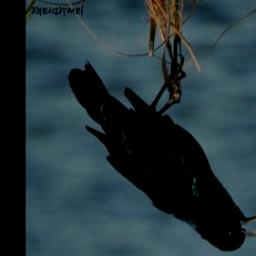Crow: (69, 55, 256, 252)
